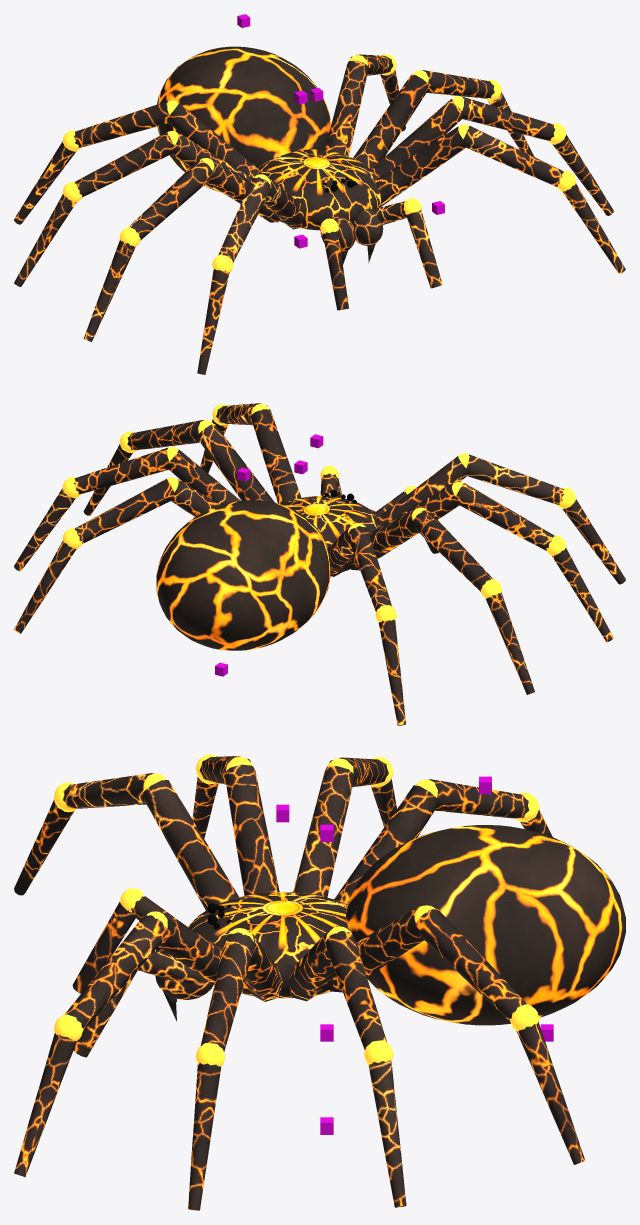
File: 07_tarantola_brace.glb
The picture shows the model from 3 angles, top to bottom: view 1: azimuth 30°, elevation 25°; view 2: azimuth 150°, elevation 25°; view 3: azimuth 270°, elevation 25°; orthographic projection. The views are drawn at different scales.
Visible parts, largest first — view 1: Tarantola__Zampe, Tarantola__Addome_Lava, Tarantola__Carapace_Sole, Tarantola__Giunture_Lava; view 2: Tarantola__Zampe, Tarantola__Addome_Lava, Tarantola__Giunture_Lava, Tarantola__Carapace_Sole; view 3: Tarantola__Zampe, Tarantola__Addome_Lava, Tarantola__Carapace_Sole, Tarantola__Giunture_Lava.
Part boxes in pixels (x1,y1,x2,y2): Tarantola__Zampe: (14,54,625,374); Tarantola__Addome_Lava: (157,46,331,192); Tarantola__Carapace_Sole: (257,149,381,230); Tarantola__Giunture_Lava: (62,54,576,272); Tarantola__Zampe: (14,403,625,725); Tarantola__Addome_Lava: (156,500,331,650); Tarantola__Giunture_Lava: (62,404,576,622); Tarantola__Carapace_Sole: (281,496,378,571); Tarantola__Zampe: (14,756,585,1210); Tarantola__Addome_Lava: (346,825,625,1025); Tarantola__Carapace_Sole: (187,892,348,998); Tarantola__Giunture_Lava: (53,754,539,1066).
Bounding box in the file's own units: 5.76 × 1.95 × 4.17.
7 materials, 3 textured.
